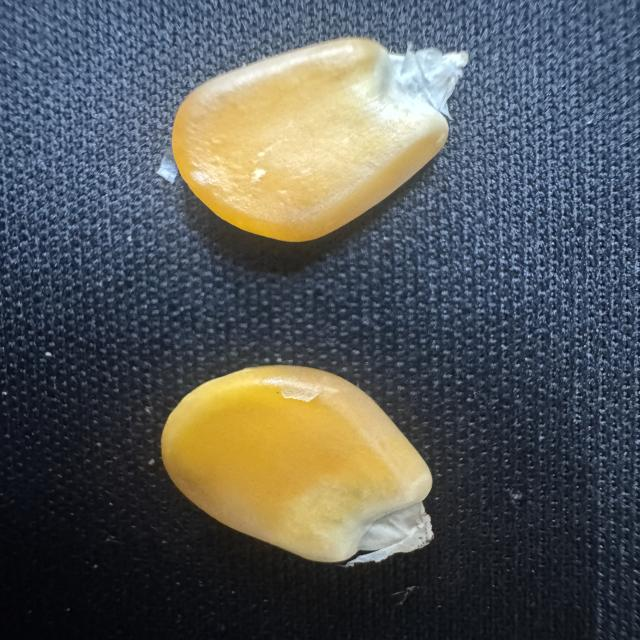Good-Seed: (159, 29, 484, 248), (153, 354, 440, 573)
